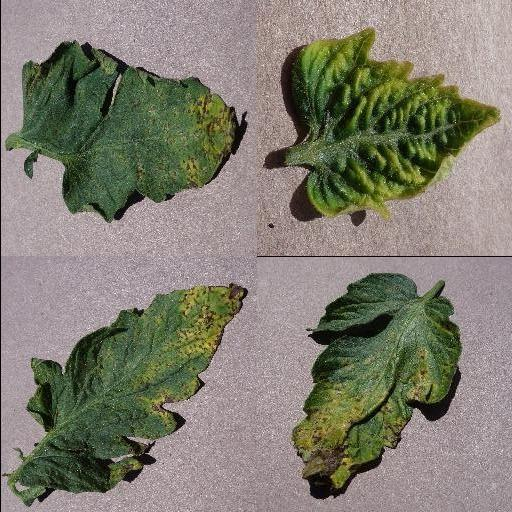Septoria: (7, 283, 249, 494), (21, 38, 239, 222), (291, 271, 460, 489)
Yellow Leaf Curl Virus: (288, 28, 500, 218)
